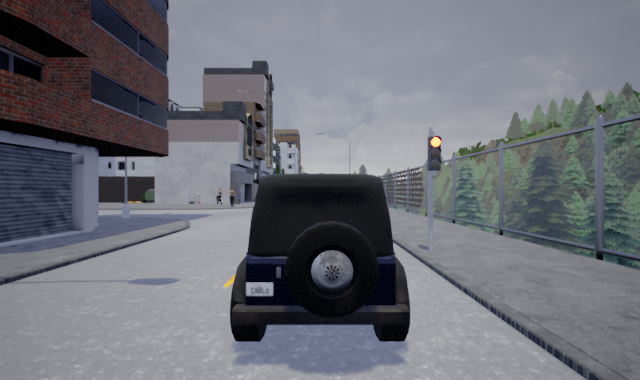pedestrian: (215, 186, 225, 206), (227, 186, 236, 206)
vehicle: (229, 170, 411, 343)
